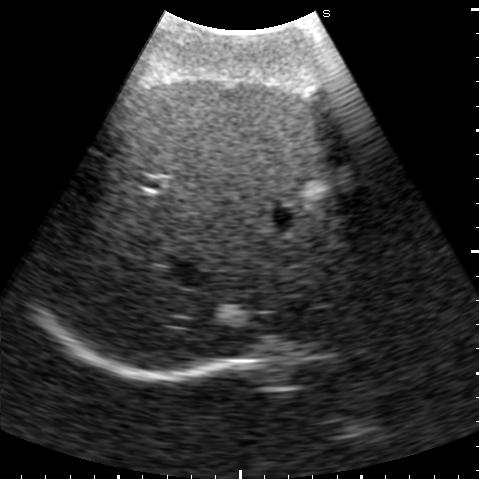S5: (111, 81, 347, 196)
S7: (34, 158, 163, 318)
S8: (104, 195, 371, 371)
Tumor: (217, 304, 250, 327), (297, 180, 332, 200)
